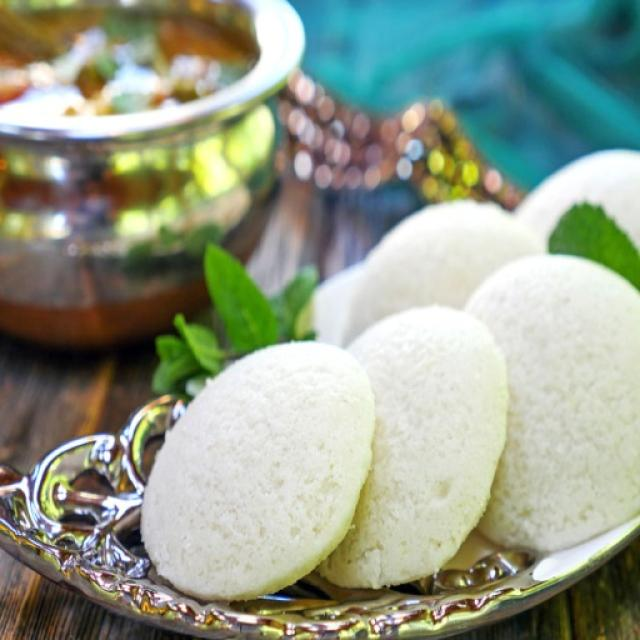IDLI: (141, 201, 639, 599)
